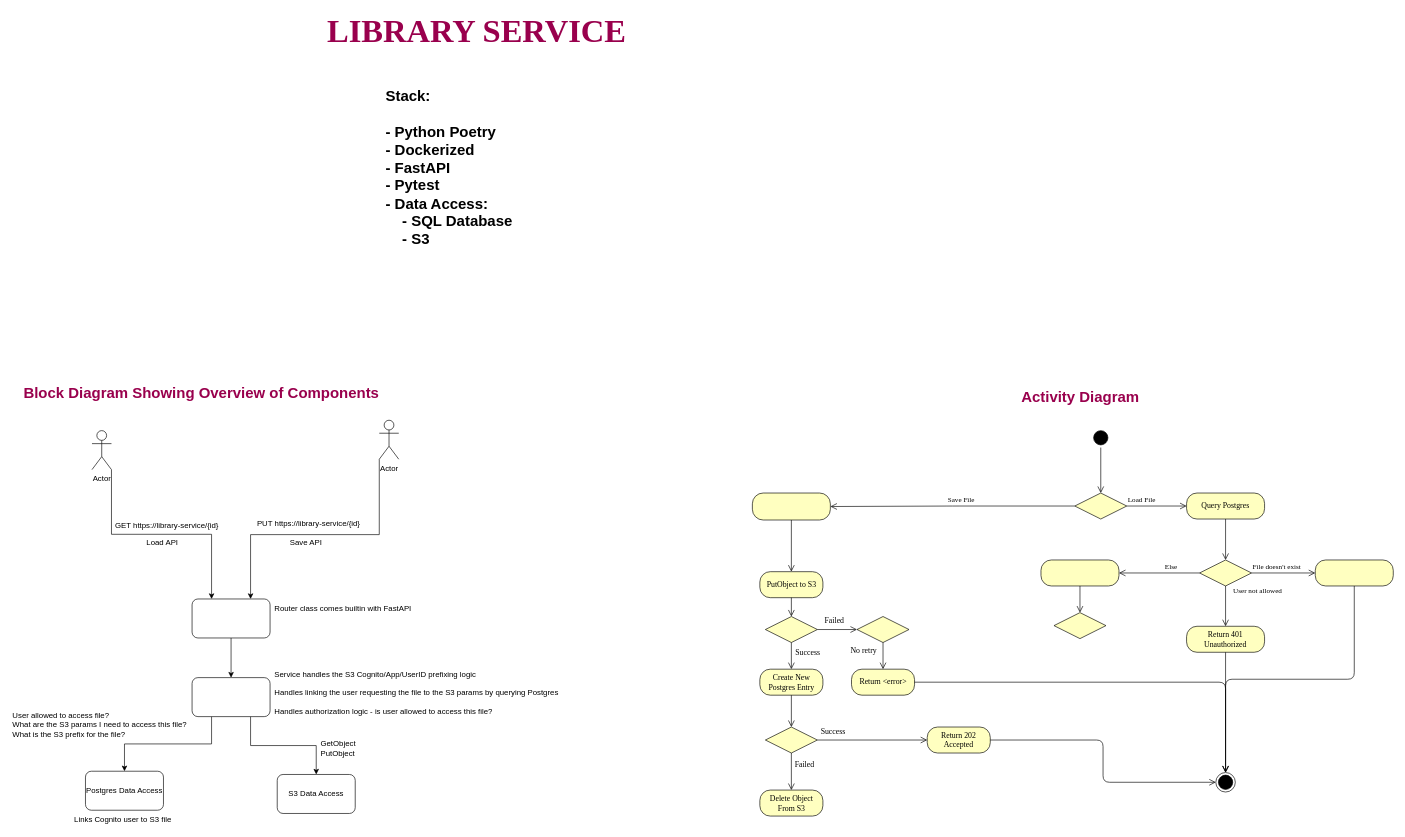
Some shapes in this 1405 by 837 pixel diagram are drawn without their labels. Each missing label, with the centre of its shape:
"Gather File Details" goes at point (791, 506).
"GetObject S3" goes at point (1079, 572).
"Return 404 Not Found" goes at point (1354, 572).
"Router" goes at point (230, 618).
"Service (business logic layer)" goes at point (230, 697).
